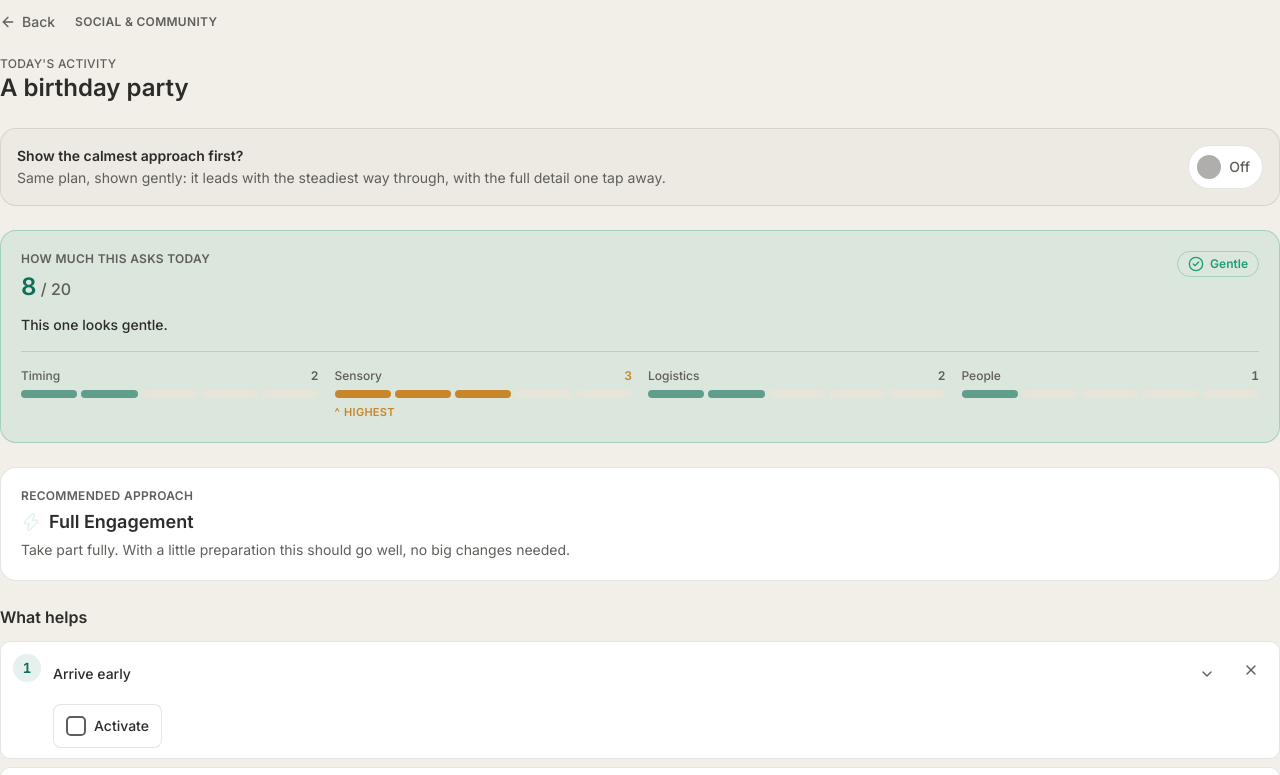
Test: PreparationPlanView strategy list › lists each strategy title and reveals the detail on expand
The image size is (1280, 775).
Check: the text "Arrive early" is shown, box [53,664,131,684]
Click the heading "Arrive early" at (82, 672), box [52,664,1215,682]
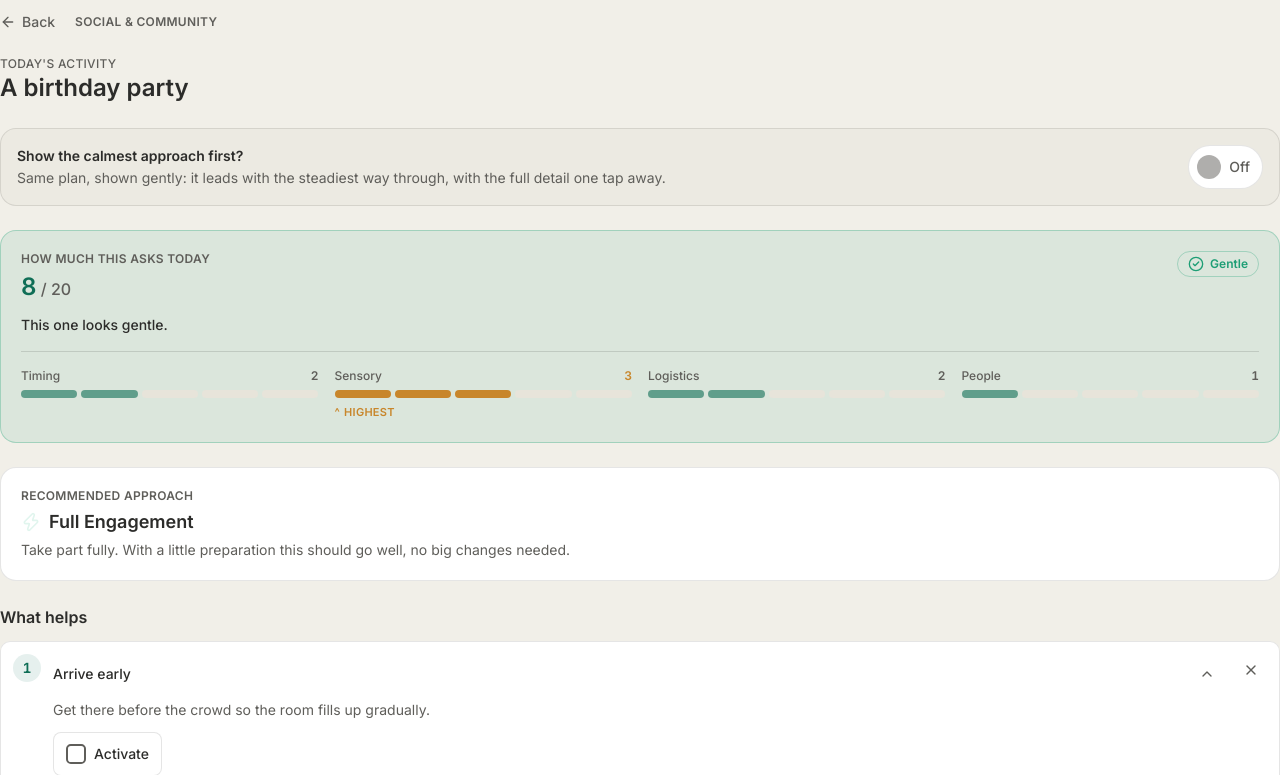
Check: the text "Get there before the crowd so the room fills up gradually." is shown, box [53,701,430,718]
